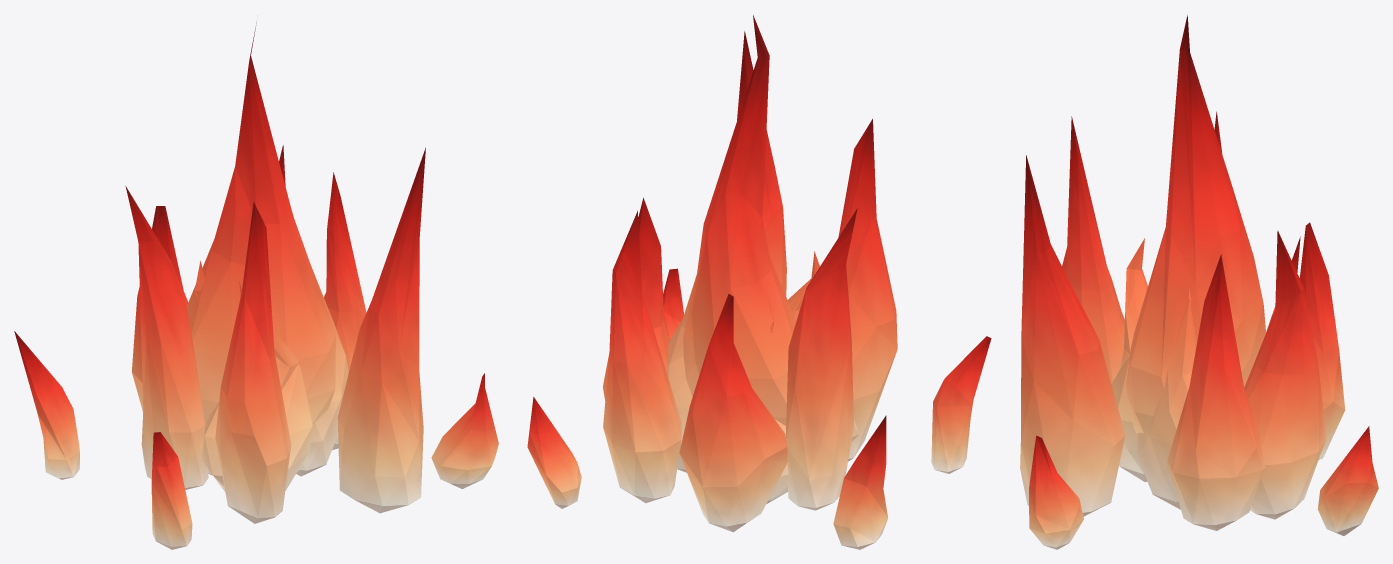
The model's file is flame_red.glb.
3 renders of one model, left to right at view 1: azimuth 30°, elevation 25°; view 2: azimuth 150°, elevation 25°; view 3: azimuth 270°, elevation 25°, orthographic.
Size of the model in its own units: 0.8245 by 1.07 by 0.7139.
1 material, 1 textured.
